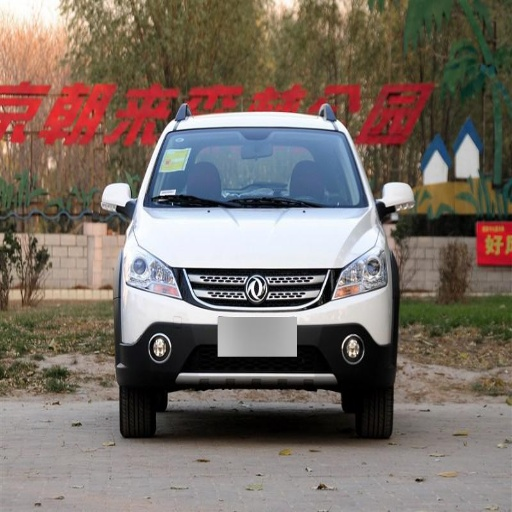front_bumper: (117, 268, 392, 391)
front_right_light: (124, 250, 180, 297)
hood: (133, 207, 379, 269)
